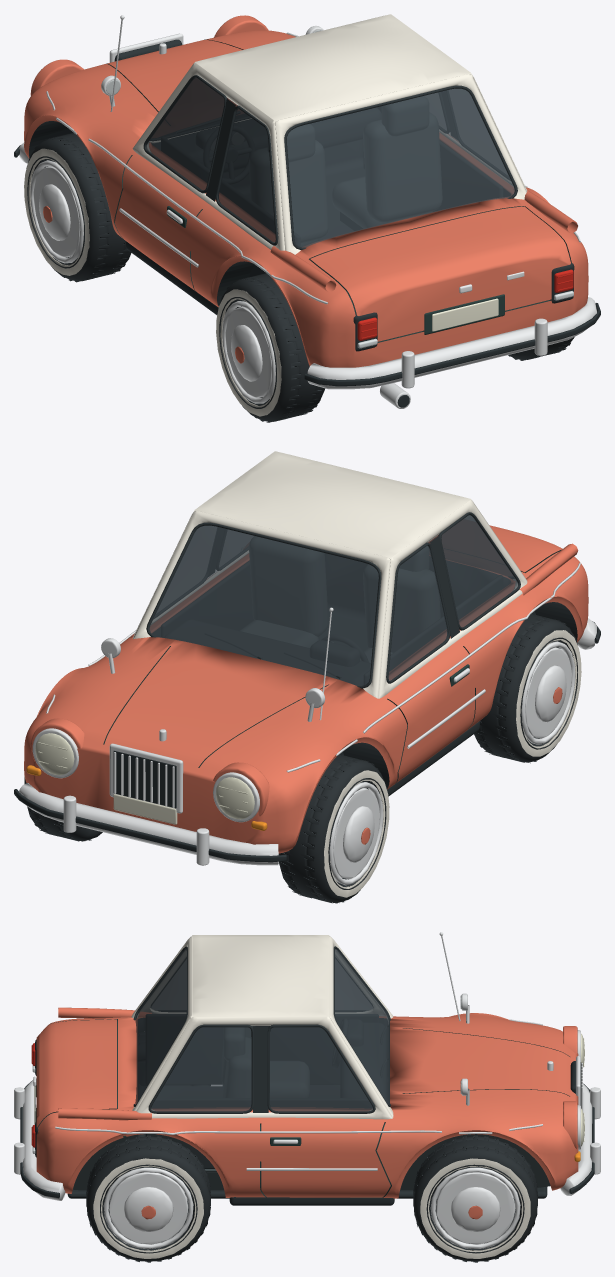
The model's file is dover_lod1.fbx.
3 views of the same model, one above another, from view 1: azimuth 30°, elevation 25°; view 2: azimuth 150°, elevation 25°; view 3: azimuth 270°, elevation 25° (orthographic). The views are drawn at different scales.
Parts seen in each view (by area): view 1: Body, Wheel_RL_Mesh, Wheel_FL_Mesh; view 2: Body, Wheel_FL_Mesh, Wheel_RL_Mesh, Wheel_FR_Mesh; view 3: Body, Wheel_FR_Mesh, Wheel_RR_Mesh, Wheel_RL_Mesh.
Part boxes in pixels (bbox=[...]): Body: bbox=[14, 14, 600, 408]; Wheel_RL_Mesh: bbox=[216, 273, 325, 422]; Wheel_FL_Mesh: bbox=[24, 133, 131, 282]; Body: bbox=[14, 451, 600, 865]; Wheel_FL_Mesh: bbox=[278, 754, 389, 903]; Wheel_RL_Mesh: bbox=[474, 614, 581, 763]; Wheel_FR_Mesh: bbox=[24, 775, 102, 841]; Body: bbox=[14, 932, 600, 1205]; Wheel_FR_Mesh: bbox=[413, 1135, 537, 1262]; Wheel_RR_Mesh: bbox=[86, 1135, 210, 1262]; Wheel_RL_Mesh: bbox=[138, 1032, 210, 1085].
Bounding box in the file's own units: 201 × 168 × 377.
